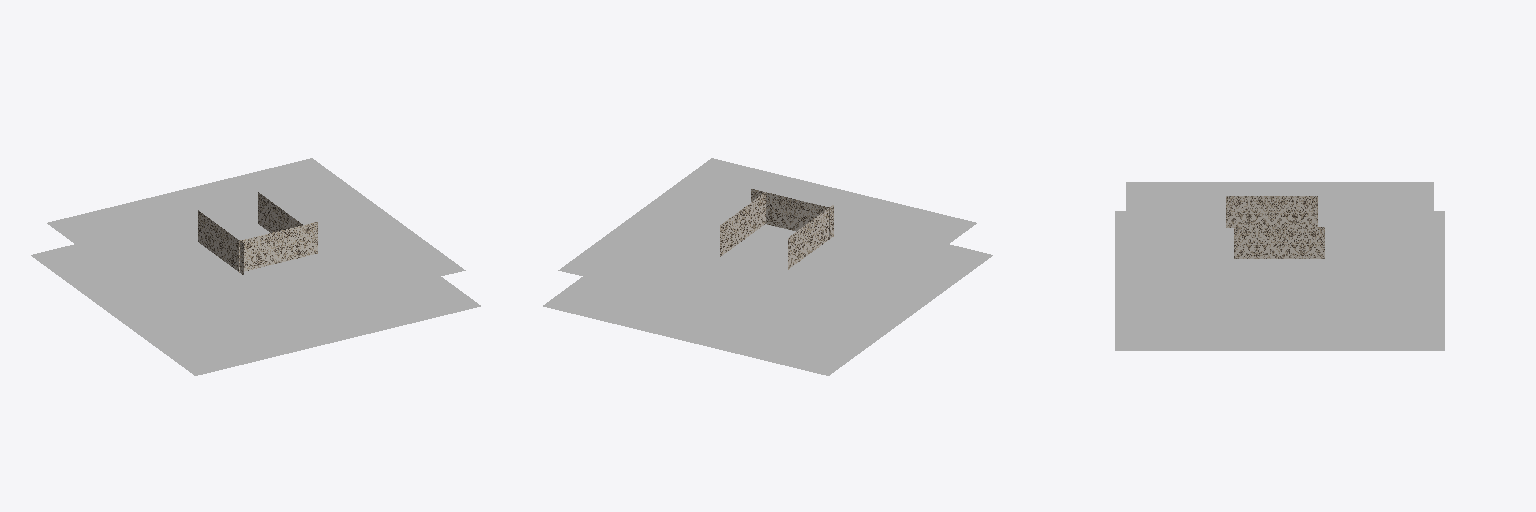
The picture shows the model from 3 angles: view 1: azimuth 30°, elevation 25°; view 2: azimuth 150°, elevation 25°; view 3: azimuth 270°, elevation 25°; orthographic projection.
Parts seen in each view (by area): view 1: Plan.6; view 2: Plan.6; view 3: Plan.6.
Boxes of the visible parts, x1=… form: Plan.6: x1=31, y1=158, x2=480, y2=375; Plan.6: x1=543, y1=158, x2=992, y2=375; Plan.6: x1=1115, y1=182, x2=1444, y2=350.
Bounding box in the file's own units: 3627 × 1000 × 3627.
Materials: 5 (4 with a texture image).